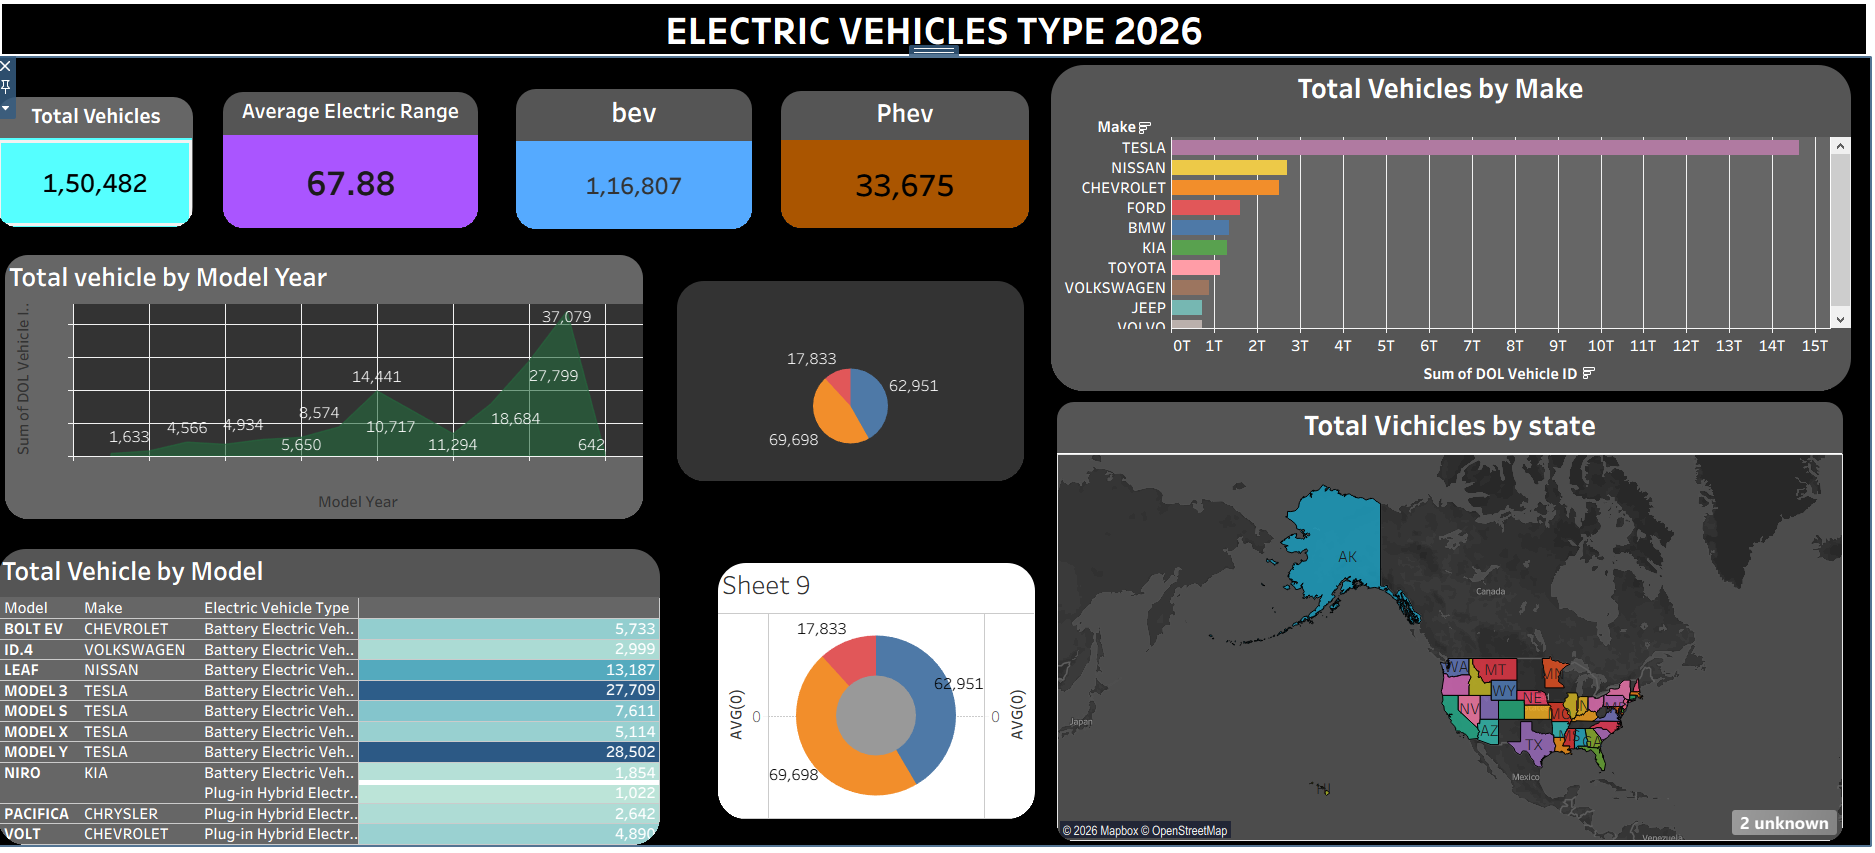

The dashboard page shown, as its layout file describes it:
{"tool":"tableau","page":{"name":"Dashboard 1","canvas":[1000,1000],"units":"permille","ordinal":0},"visuals":[{"type":"title","box":[4.2,9.3,991.5,67.4]},{"type":"worksheet","title":"Total Vehicles by Make","mark":"Bar","rows":["Make"],"cols":["DOL Vehicle ID"],"box":[561.9,84.8,423.6,378.6]},{"type":"worksheet","title":"Sheet 10","mark":"Automatic","box":[278.6,112.7,125,162.6]},{"type":"worksheet","title":"Sheet 11","mark":"Automatic","box":[419,115,131.4,159.1]},{"type":"worksheet","title":"Average Electric Range","mark":"Automatic","box":[123.4,116.1,135.1,158]},{"type":"worksheet","title":"Total Vehicles","mark":"Automatic","box":[3.6,122,103.8,151]},{"type":"worksheet","title":"Total Vehicle by model year","mark":"Area","rows":["DOL Vehicle ID"],"cols":["Model Year"],"box":[7.9,305.5,338,306.6]},{"type":"worksheet","title":"Sheet 7","mark":"Pie","box":[363.8,335.7,183.7,232.3]},{"type":"worksheet","title":"Total Vihicles by State","mark":"Multipolygon","box":[565,476.2,416.3,509.9]},{"type":"worksheet","title":"Total vehicle by model","mark":"Square","rows":["Model","Make","Electric Vehicle Type"],"box":[4.2,646.9,350.6,343.8]},{"type":"worksheet","title":"Sheet 9","mark":"Pie","rows":["Calculation_0909629842493441","Calculation_0909629842526211"],"box":[385.6,663.2,167.8,297.3]}]}

Visuals, with their boxes on the dashboard's canvas, which has no fixed pixel size, in thousandths of its width and height (x1, y1, x2, y2). These are canvas units, not pixel positions in the 1875x853 screenshot, which may show the page scaled, cropped or inside an application window:
title: (x1=4, y1=9, x2=996, y2=77)
"Total Vehicles by Make" worksheet (Bar marks): (x1=562, y1=85, x2=986, y2=463)
"Sheet 10" worksheet: (x1=279, y1=113, x2=404, y2=275)
"Sheet 11" worksheet: (x1=419, y1=115, x2=550, y2=274)
"Average Electric Range" worksheet: (x1=123, y1=116, x2=258, y2=274)
"Total Vehicles" worksheet: (x1=4, y1=122, x2=107, y2=273)
"Total Vehicle by model year" worksheet (Area marks): (x1=8, y1=306, x2=346, y2=612)
"Sheet 7" worksheet (Pie marks): (x1=364, y1=336, x2=548, y2=568)
"Total Vihicles by State" worksheet (Multipolygon marks): (x1=565, y1=476, x2=981, y2=986)
"Total vehicle by model" worksheet (Square marks): (x1=4, y1=647, x2=355, y2=991)
"Sheet 9" worksheet (Pie marks): (x1=386, y1=663, x2=553, y2=960)
